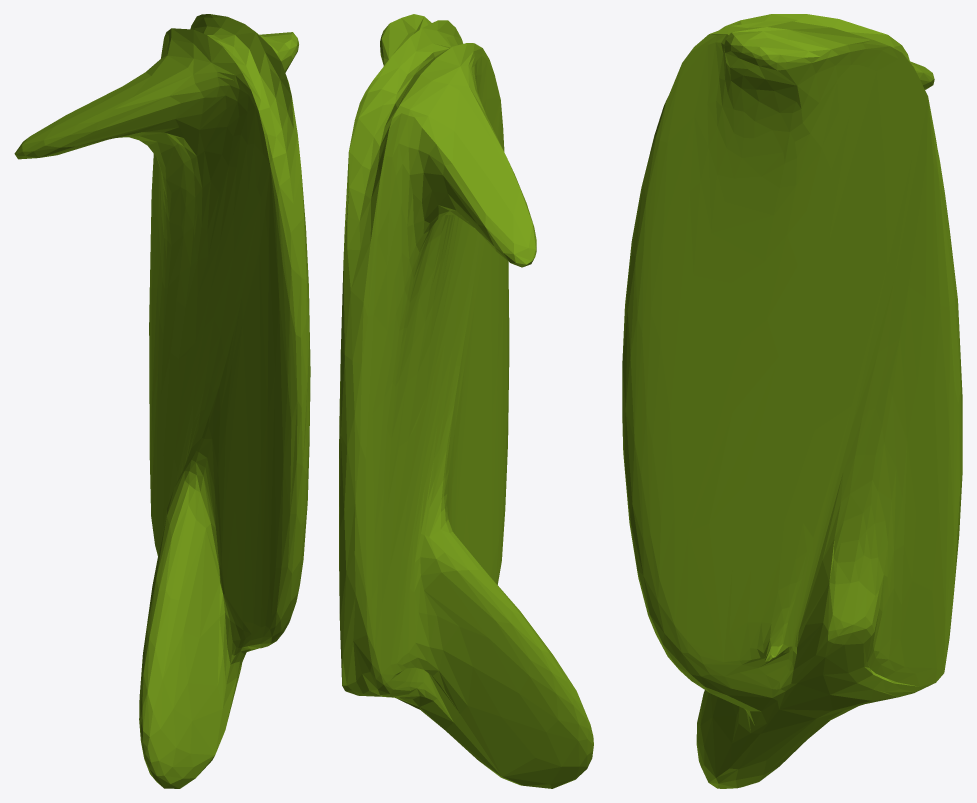
The picture shows the model from 3 angles, left to right: view 1: azimuth 30°, elevation 25°; view 2: azimuth 150°, elevation 25°; view 3: azimuth 270°, elevation 25°; orthographic projection. The views are drawn at different scales.
Parts seen in each view (by area): view 1: 785_Cube.3164; view 2: 785_Cube.3164; view 3: 785_Cube.3164.
Part boxes in pixels (x1,y1,x2,y2): 785_Cube.3164: (14,14,310,788); 785_Cube.3164: (339,14,593,788); 785_Cube.3164: (622,14,962,788).
Bounding box in the file's own units: 4.38 × 14.2 × 5.36.
